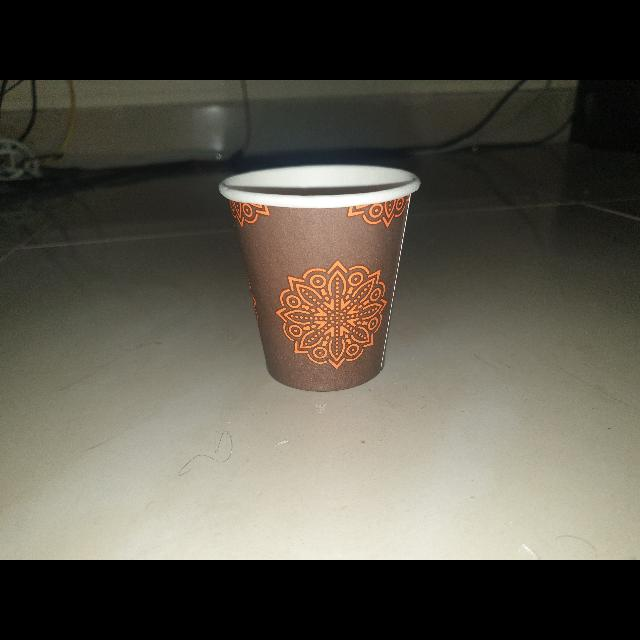trash: (215, 159, 422, 391)
